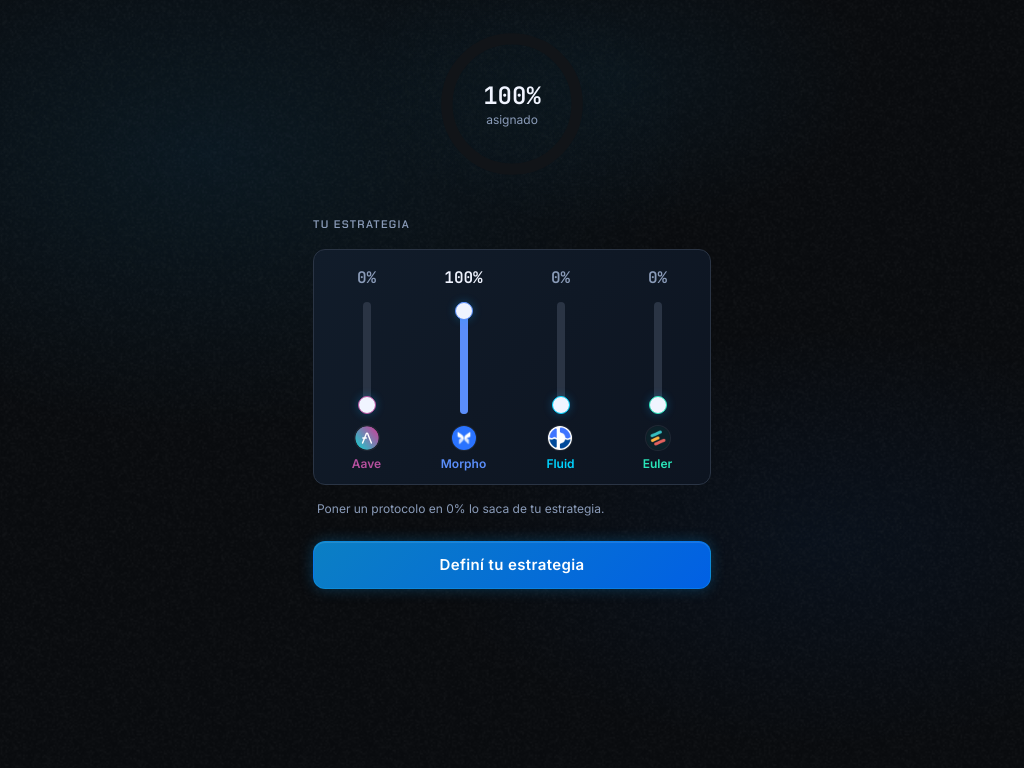
Test: RebalanceView › a throttled rebalance is the normal reverted state, never the partial state (Pitfall 4)
Click the button "Definí tu estrategia": x=512, y=564 [313,540,711,588]
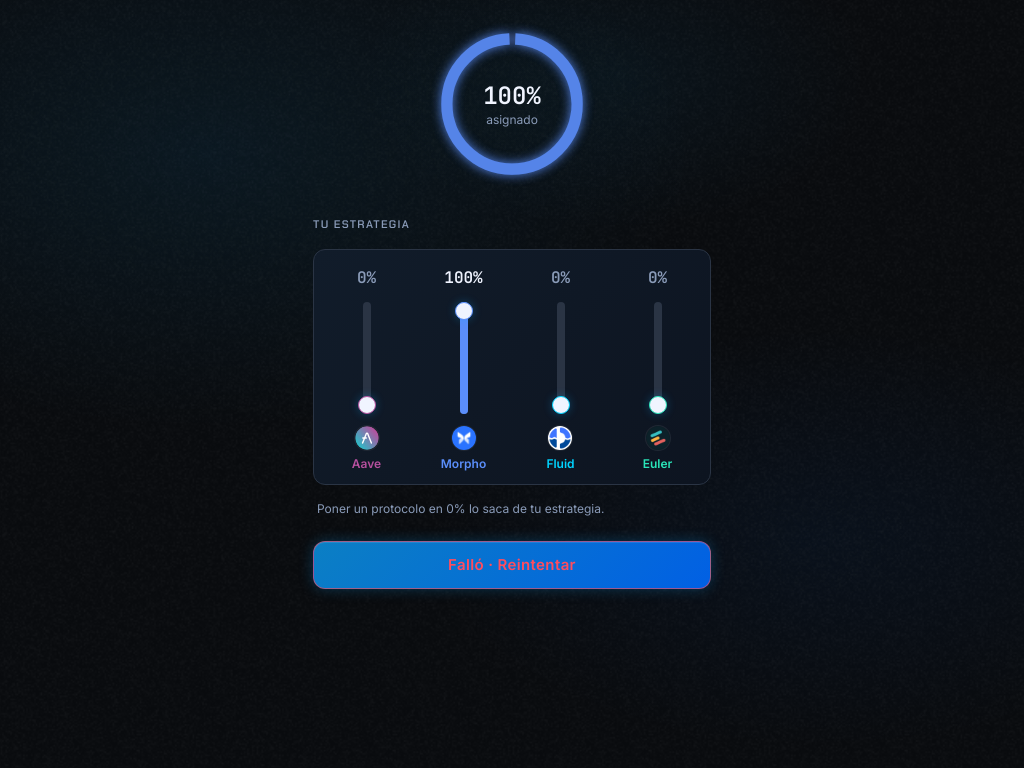
Now the button "Falló · Reintentar" is shown, box [313,540,711,588]
